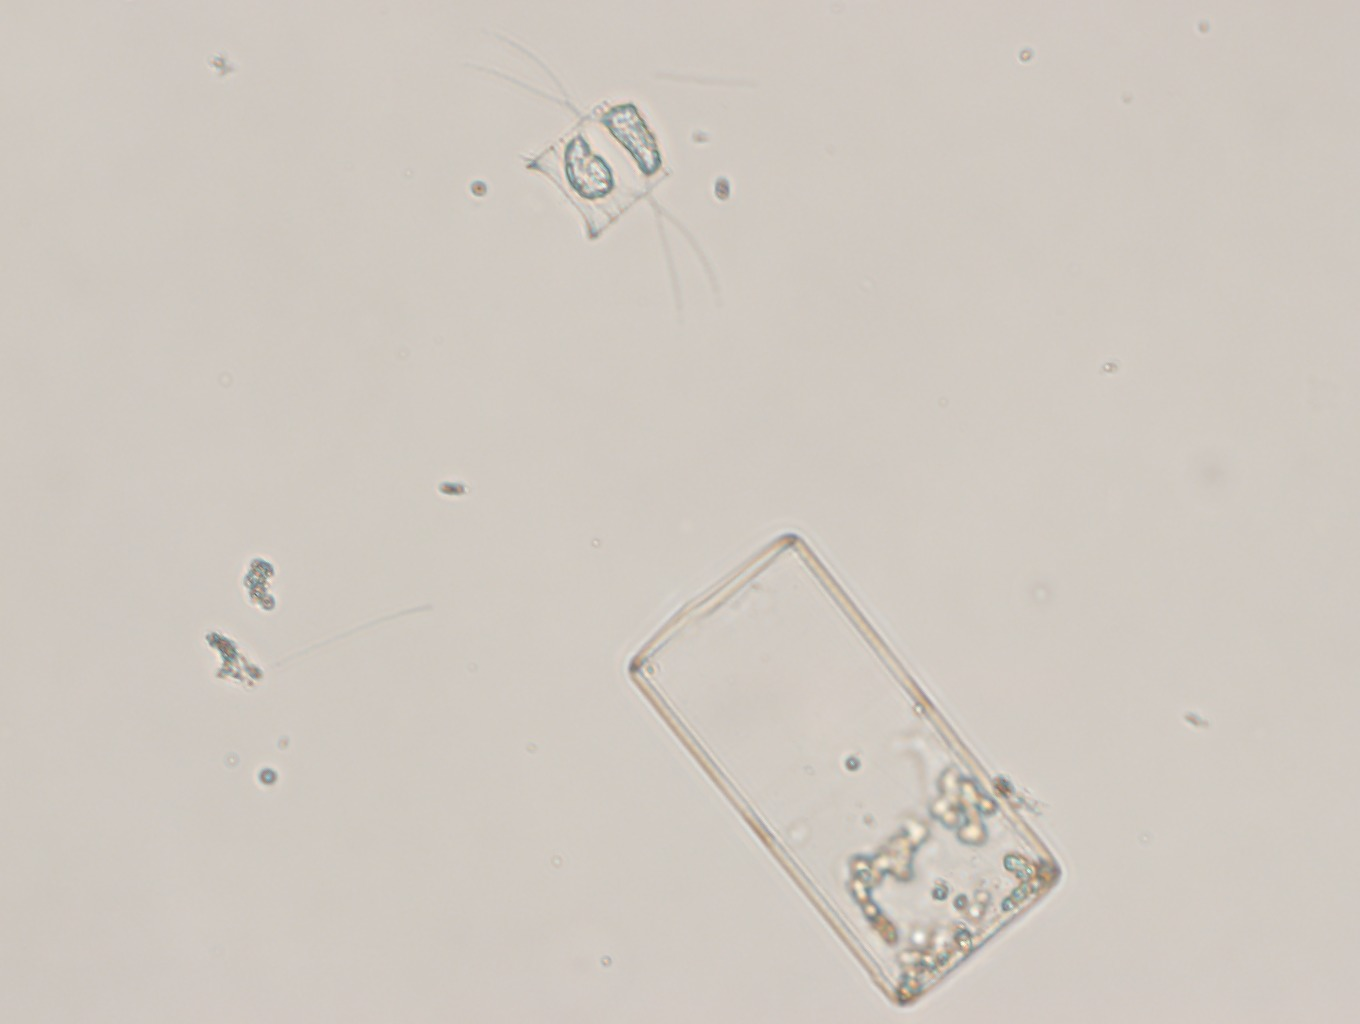chaetoceros: (458, 26, 724, 324)
guinardia flaccida: (600, 510, 1070, 1016)
